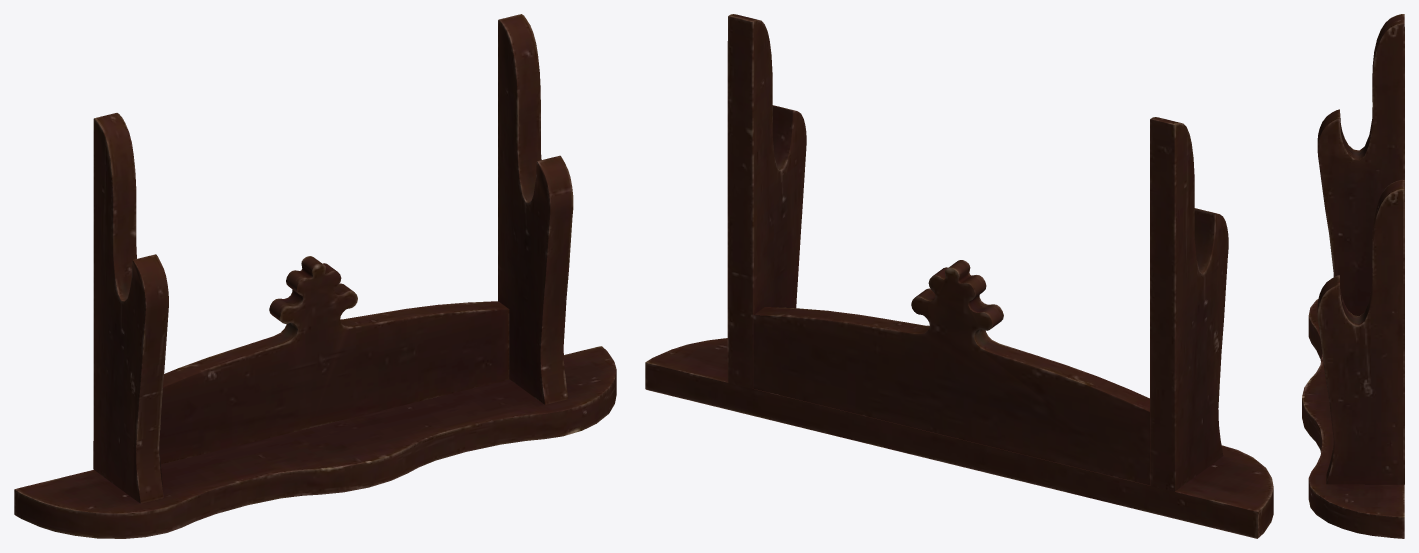
File: katana_stand_01.glb
3 views of the same model, side by side, from view 1: azimuth 30°, elevation 25°; view 2: azimuth 150°, elevation 25°; view 3: azimuth 270°, elevation 25° (orthographic). The views are drawn at different scales.
Visible parts, largest first — view 1: katana_stand_01; view 2: katana_stand_01; view 3: katana_stand_01.
Part boxes in pixels (x1=…): katana_stand_01: x1=14, y1=14, x2=616, y2=538; katana_stand_01: x1=645, y1=14, x2=1273, y2=538; katana_stand_01: x1=1302, y1=14, x2=1404, y2=538.
Size of the model in its own units: 0.2958 by 0.182 by 0.0534.
1 material, 1 textured.
